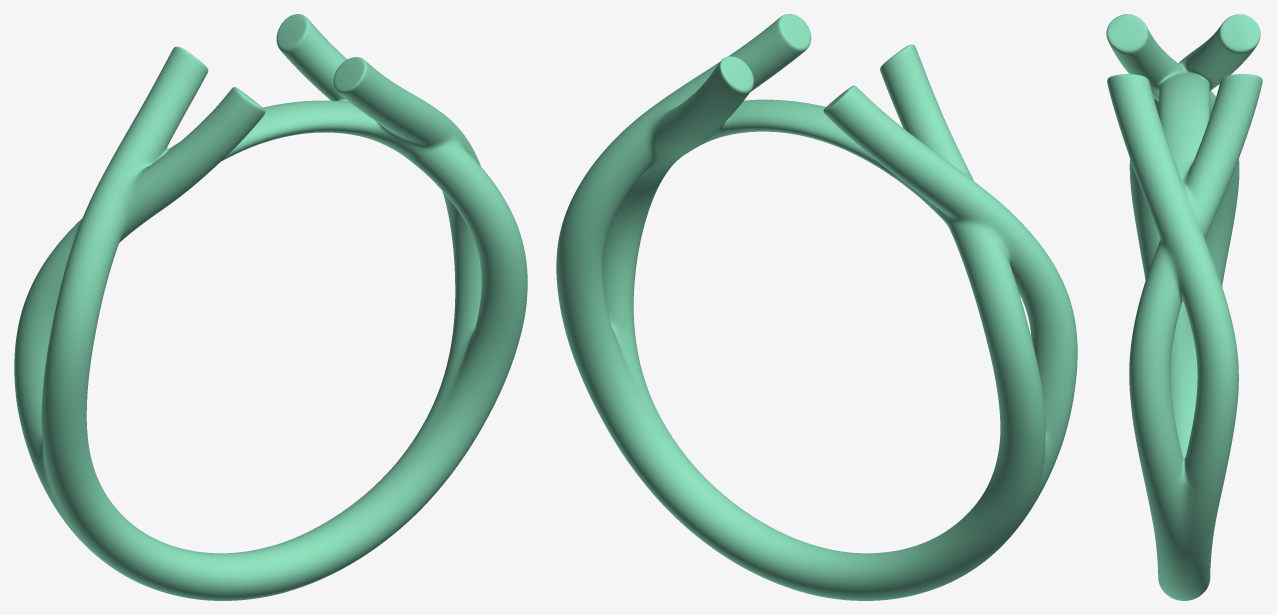
3 renders of one model, left to right at view 1: azimuth 30°, elevation 25°; view 2: azimuth 150°, elevation 25°; view 3: azimuth 270°, elevation 25°, orthographic.
Parts seen in each view (by area): view 1: Metal02; view 2: Metal02; view 3: Metal02.
Part boxes in pixels (<box>): Metal02: <box>14,14,527,600</box>; Metal02: <box>556,14,1077,600</box>; Metal02: <box>1106,14,1262,600</box>.
Size of the model in its own units: 21.07 by 22.52 by 5.99.
